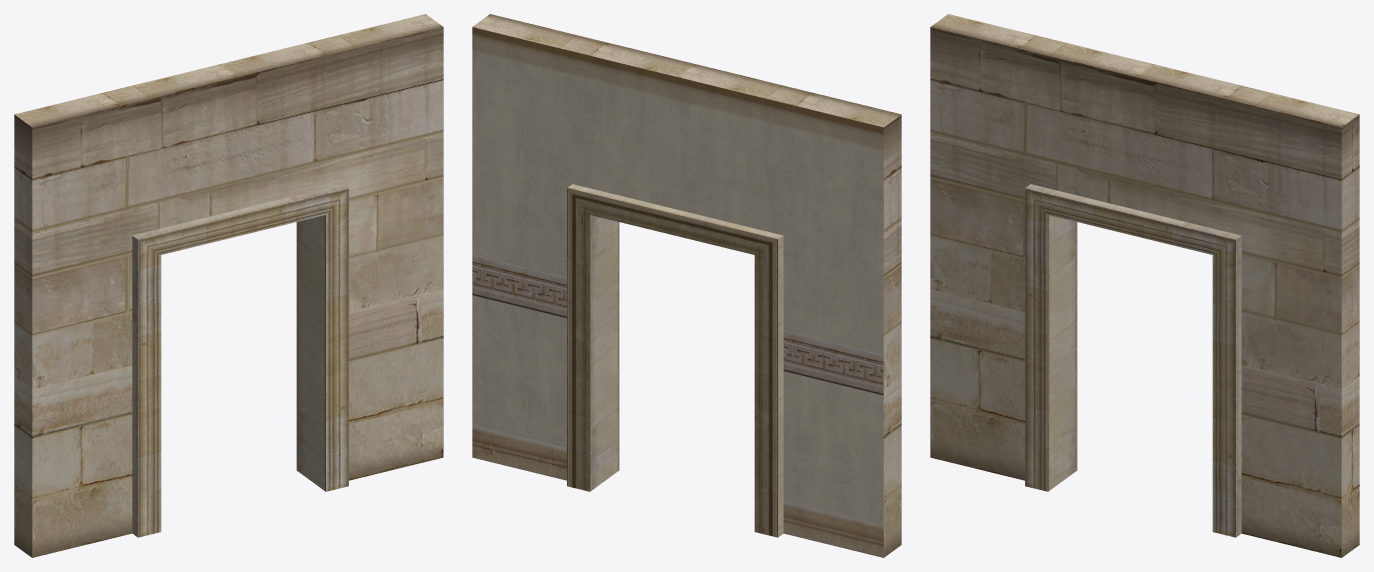
The model's file is svspartadoorway1.dae.
3 views of the same model, side by side, from view 1: azimuth 30°, elevation 25°; view 2: azimuth 150°, elevation 25°; view 3: azimuth 330°, elevation 25° (orthographic).
Visible parts, largest first — view 1: unnamed_object34-0; view 2: unnamed_object34-0; view 3: unnamed_object34-0.
Part boxes in pixels (box(x1,y1,x2,y2)): unnamed_object34-0: box(14, 14, 443, 557); unnamed_object34-0: box(472, 14, 901, 557); unnamed_object34-0: box(930, 14, 1359, 557).
Size of the model in its own units: 400 by 400 by 49.18.
